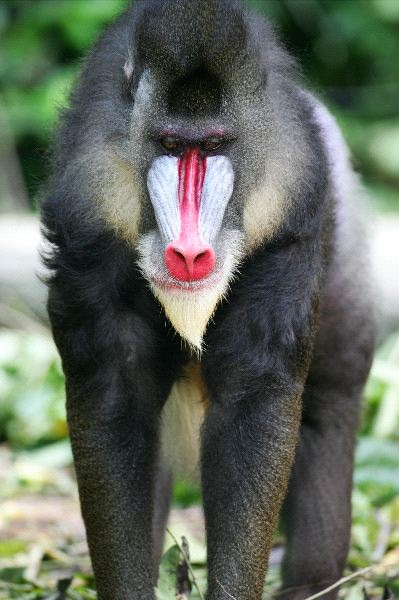Mandrill: (59, 7, 363, 567)
